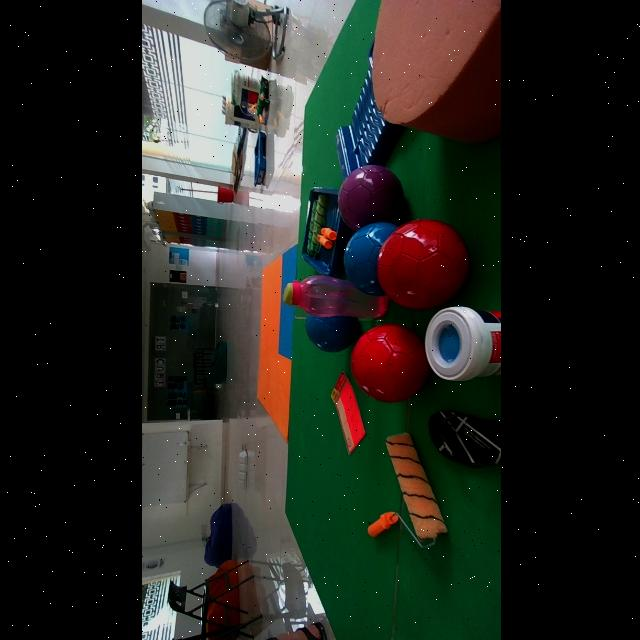B: (341, 222, 395, 296), (303, 316, 358, 352)
P: (336, 165, 403, 232)
R: (376, 218, 469, 309), (349, 323, 429, 403)
